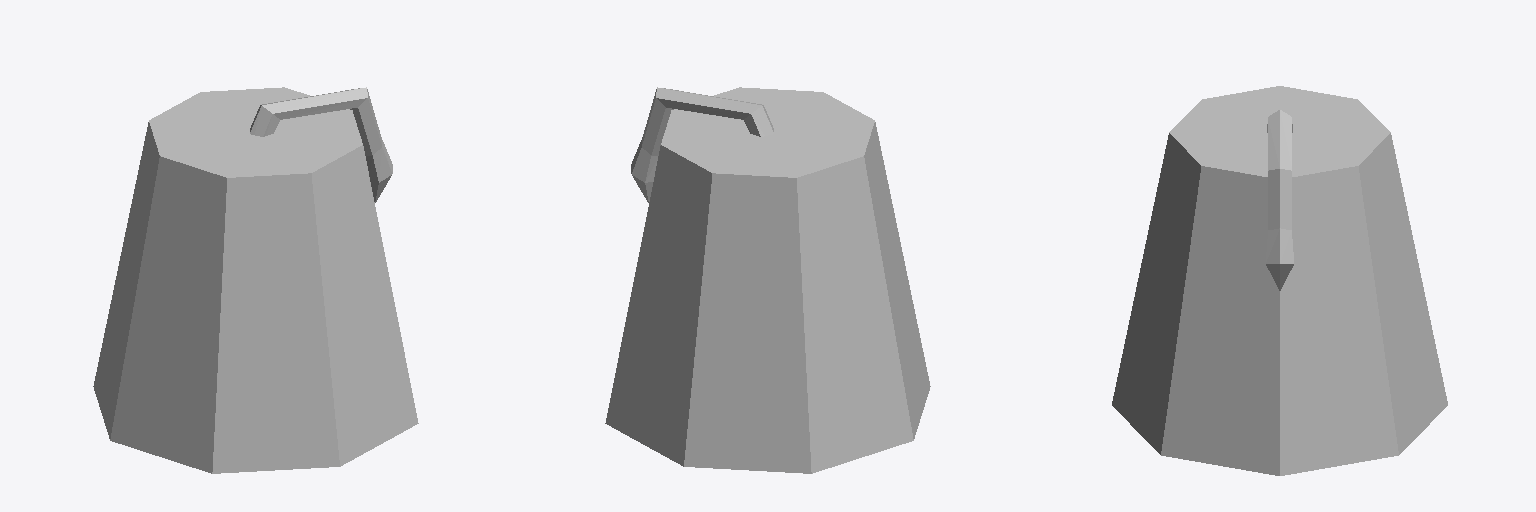
The model's file is phil_fish.obj.
3 views of the same model, side by side, from view 1: azimuth 30°, elevation 25°; view 2: azimuth 150°, elevation 25°; view 3: azimuth 270°, elevation 25° (orthographic).
Visible parts, largest first — view 1: fez; view 2: fez; view 3: fez.
Part boxes in pixels (left/top/right/bottom): fez: left=93, top=87, right=418, bottom=473; fez: left=605, top=87, right=930, bottom=473; fez: left=1112, top=86, right=1447, bottom=475.
Size of the model in its own units: 0.3282 by 0.3209 by 0.3282.